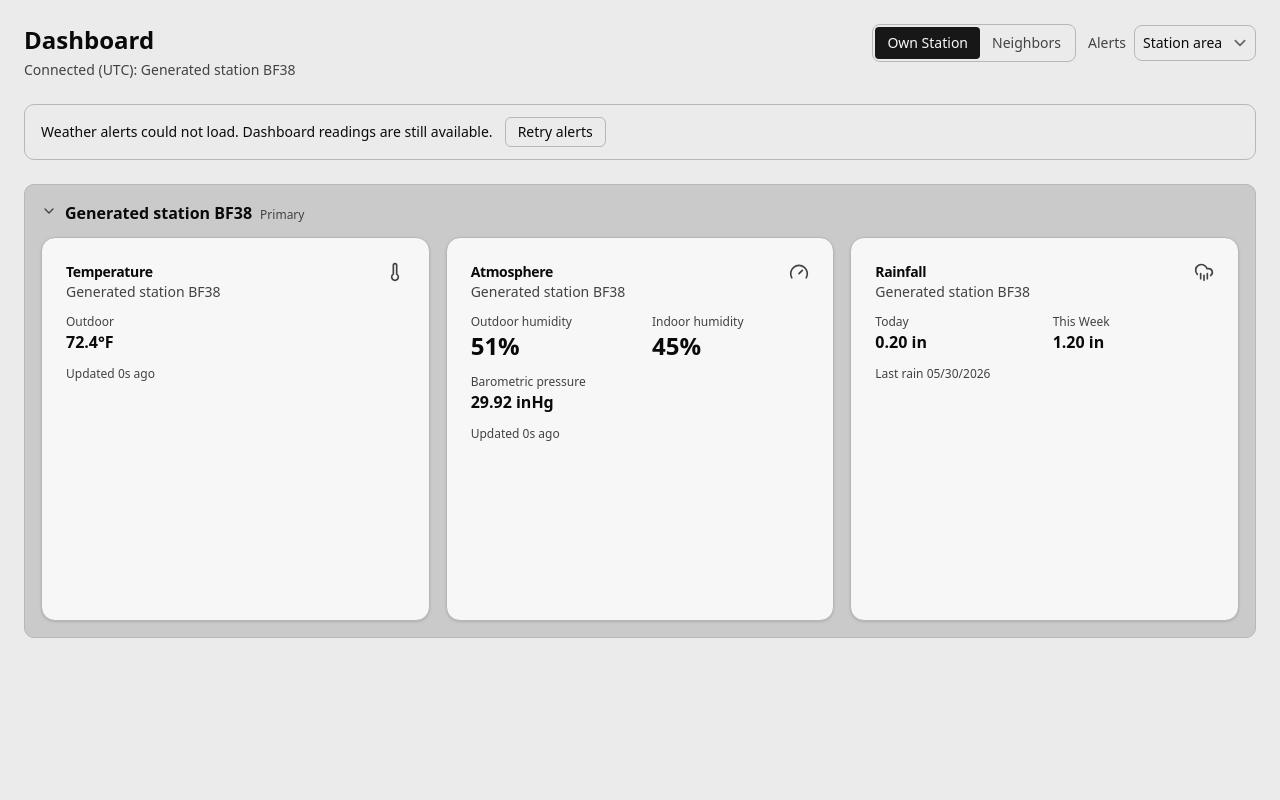
Test case: DashboardPage › shows a retryable status when weather alerts fail to load
Expected: the message with test id "dashboard-alerts-error" shows "Weather alerts could not load", left=41, top=122, right=493, bottom=141
Click the button with test id "dashboard-alerts-retry": (555, 132) left=505, top=117, right=606, bottom=147
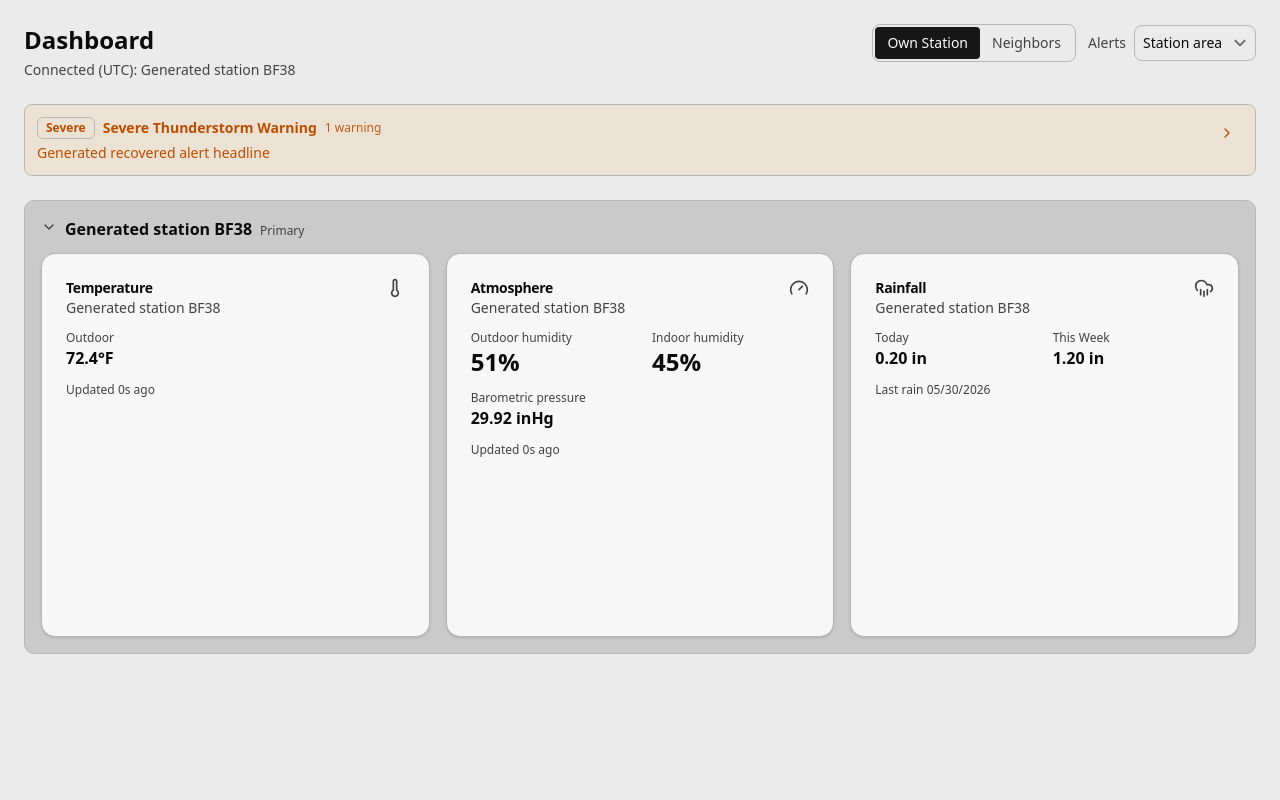
Result: the message with test id "dashboard-alerts-error" is gone
Result: the message with test id "dashboard-alerts-banner" shows "Generated recovered alert headline" at left=37, top=143, right=270, bottom=162
